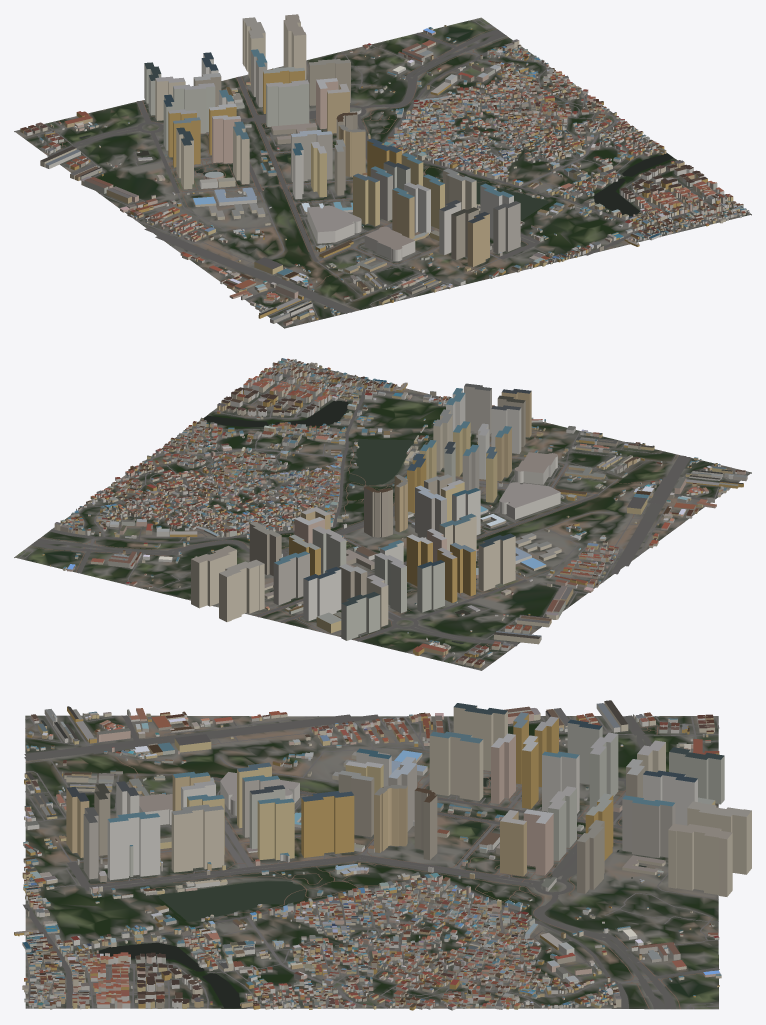
3 views of the same model, one above another, from view 1: azimuth 30°, elevation 25°; view 2: azimuth 150°, elevation 25°; view 3: azimuth 270°, elevation 25° (orthographic). The views are drawn at different scales.
Visible parts, largest first — view 1: buildings, ground, roads, water; view 2: buildings, ground, roads, water; view 3: buildings, ground, roads, water.
Boxes of the visible parts, x1,y1,x2,y2 form: buildings: (20, 14, 749, 325); ground: (14, 17, 751, 328); roads: (15, 18, 750, 327); water: (79, 135, 673, 220); buildings: (42, 358, 747, 668); ground: (14, 366, 751, 670); roads: (18, 366, 749, 670); water: (203, 401, 476, 643); buildings: (14, 700, 751, 1010); ground: (25, 715, 718, 1009); roads: (23, 714, 719, 1009); water: (98, 777, 646, 1008).
Bounding box in the file's own units: 1455 × 134 × 1493.
